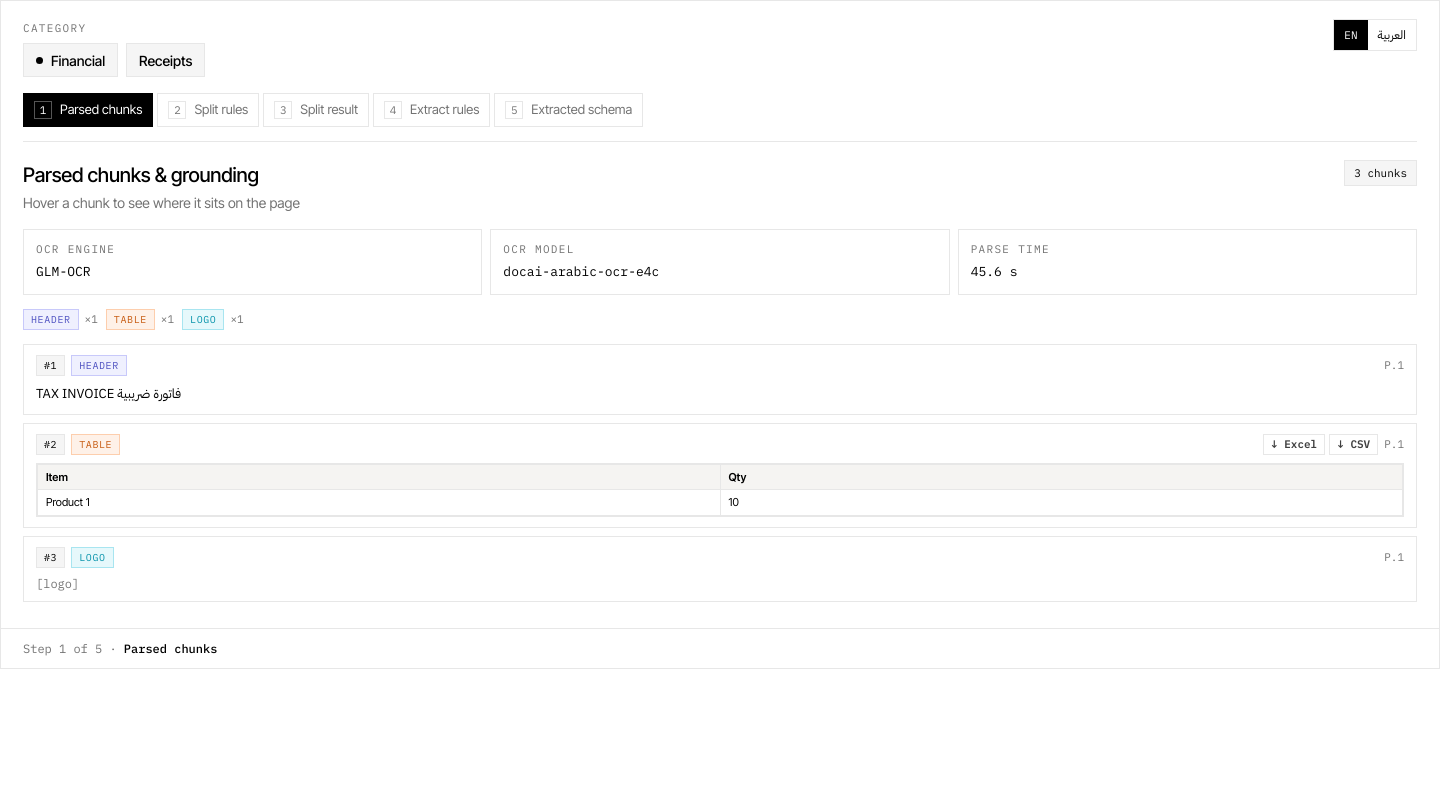
Test: no invented confidence
The image size is (1440, 810).
Step 1. Click the button "5 Extracted schema" → click(569, 110), box [494,93,643,127]
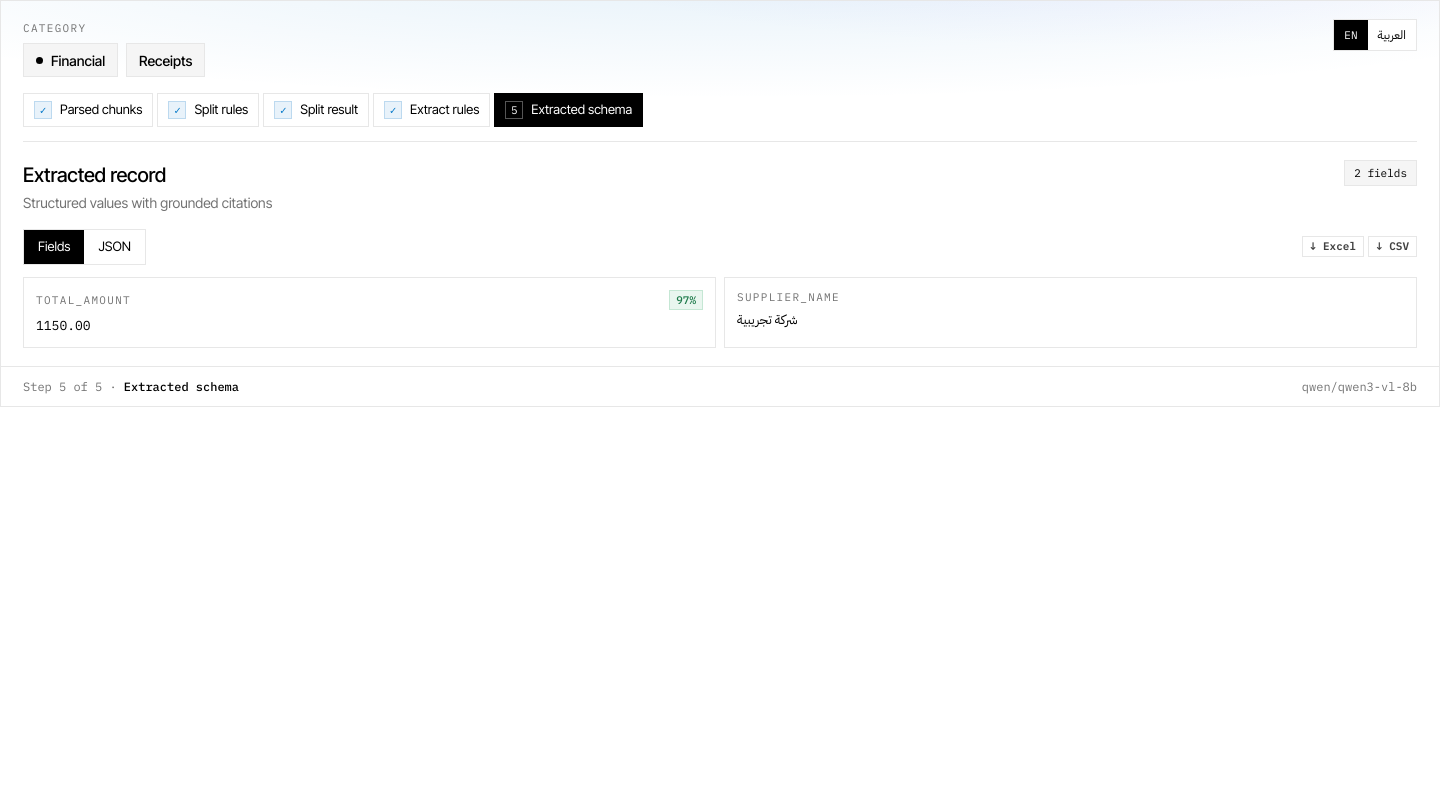
Expected: the text "supplier_name" does not show "%"
Now the text "97%" is shown, box [669,290,703,310]
